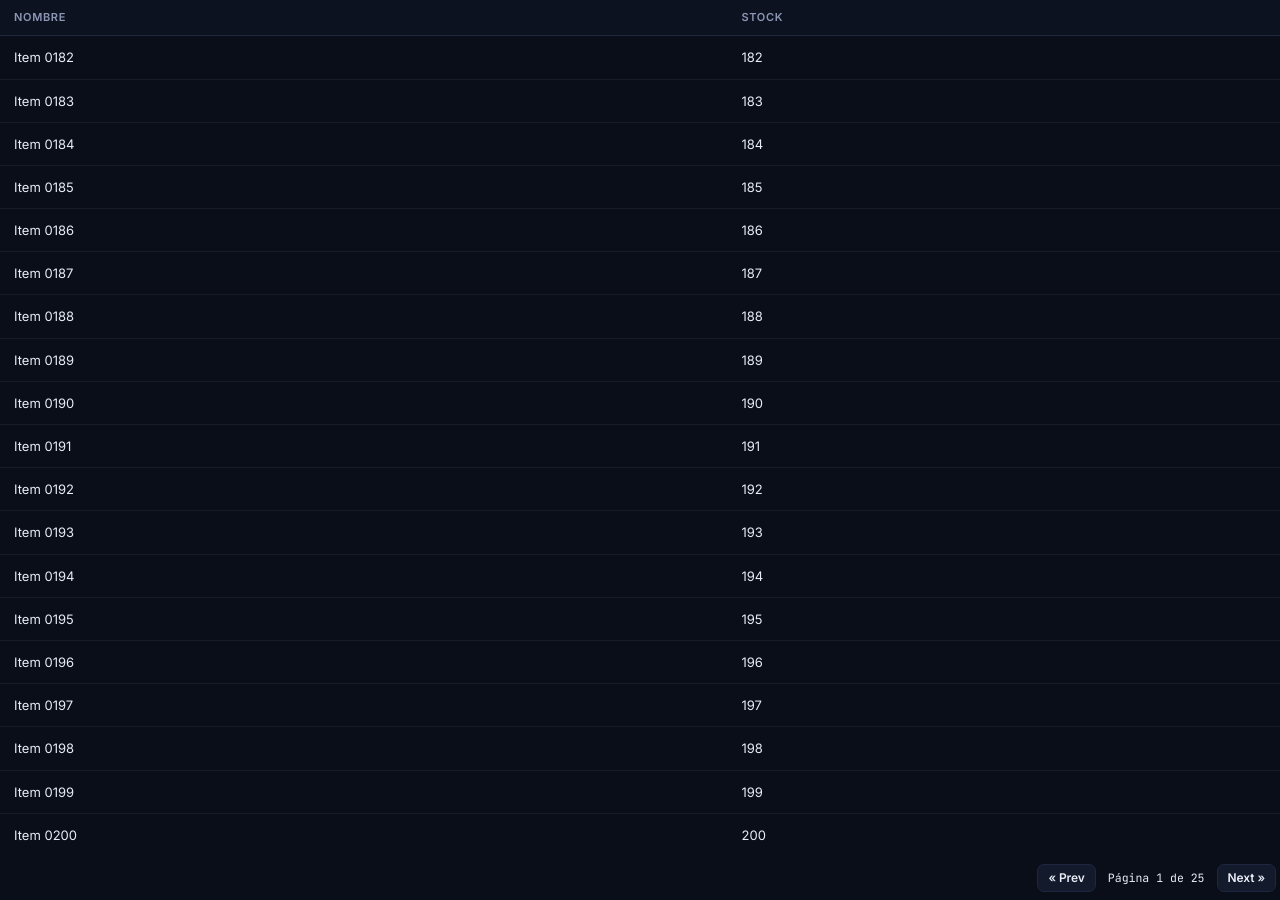
SortableTable — paginación cliente (E-04) › « Prev está disabled en página 1 y se habilita después de avanzar
This screenshot has width=1280, height=900.
(page scrolled)
Expected: the button with aria-label "Página anterior" is disabled, [1037, 864, 1096, 892]
Click the button with aria-label "Página siguiente" at (1246, 878), box [1216, 864, 1276, 892]
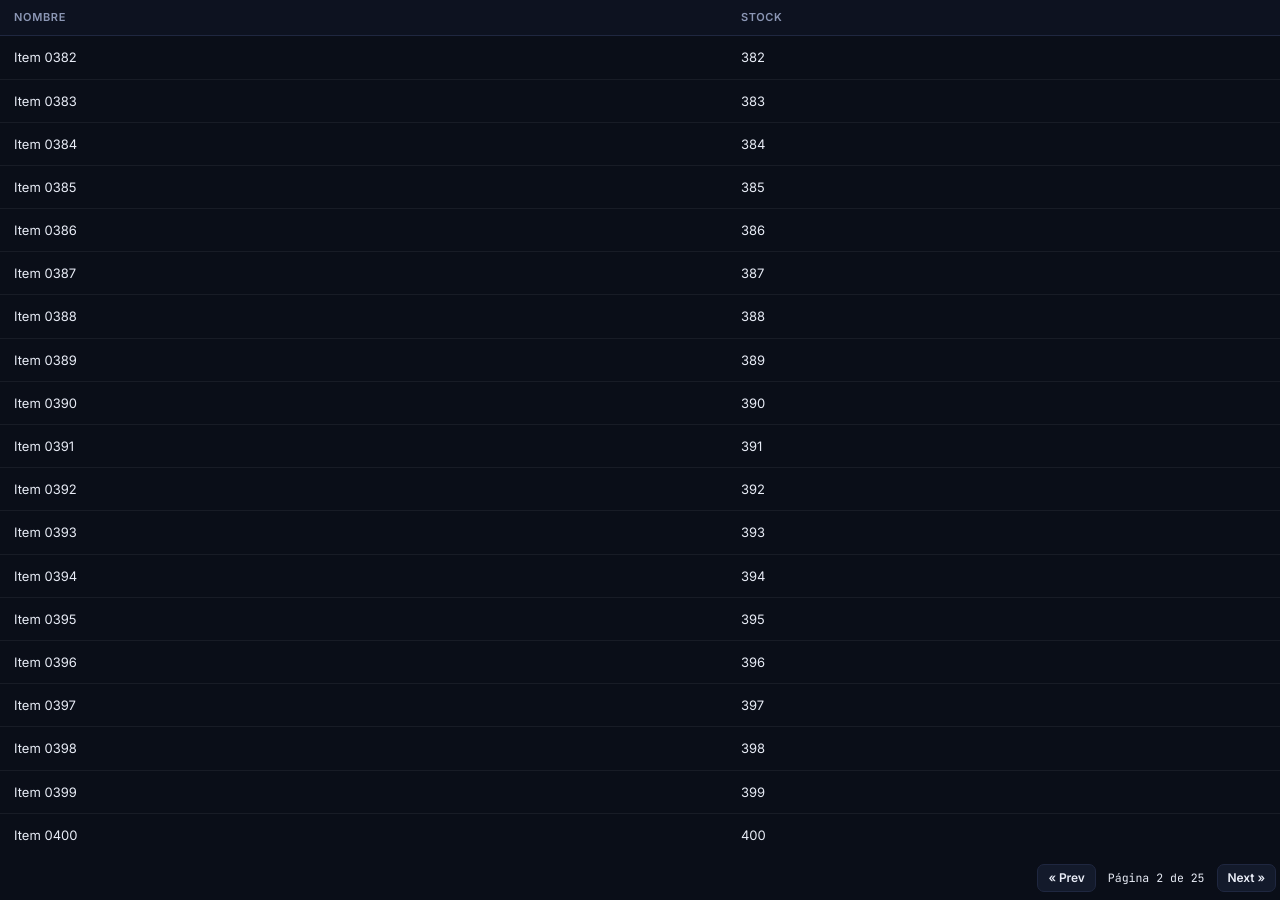
Click the button with aria-label "Página anterior" at (1067, 878), box [1037, 864, 1096, 892]
(page scrolled)
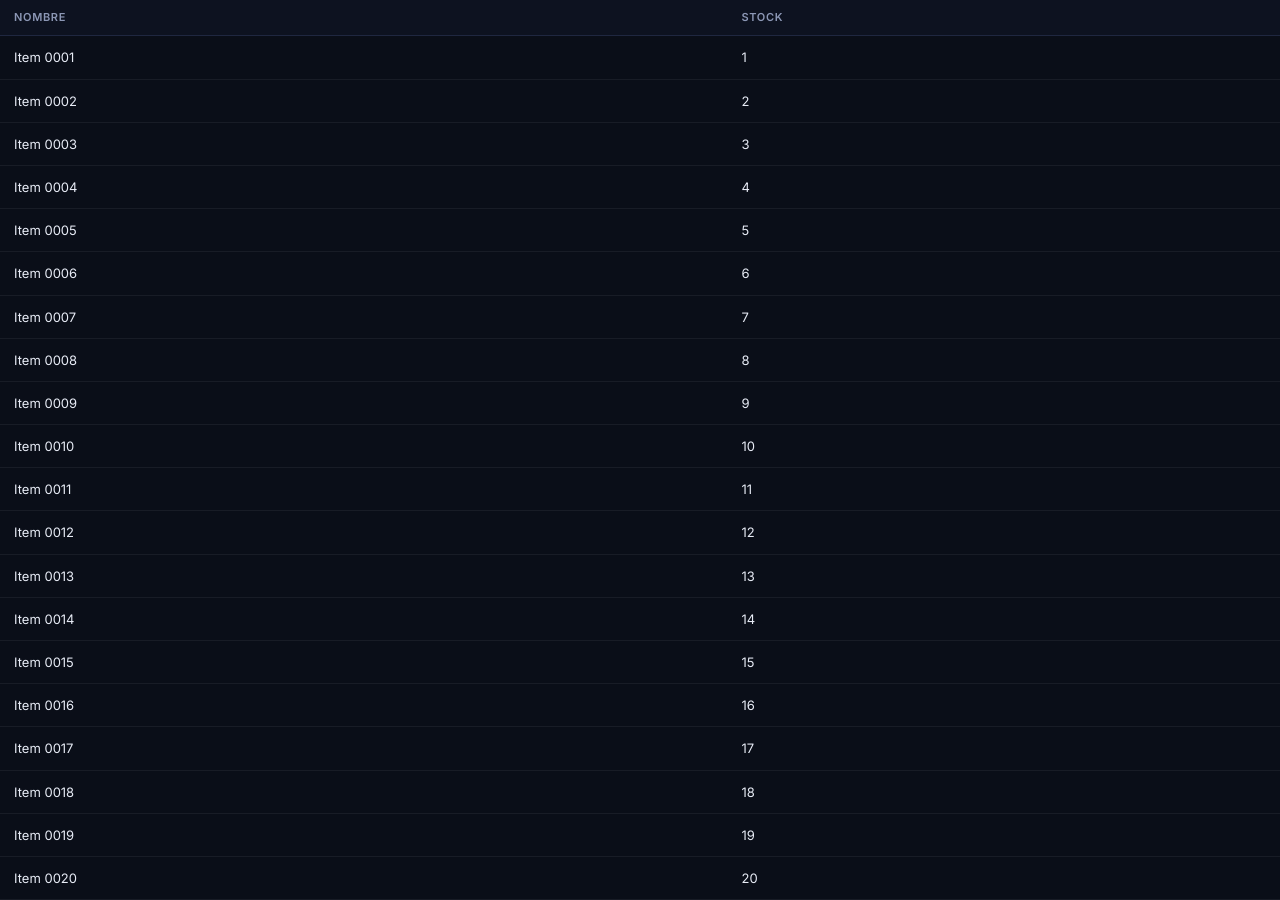
Expected: the cell "Item 0001" is shown, [0, 36, 728, 80]
